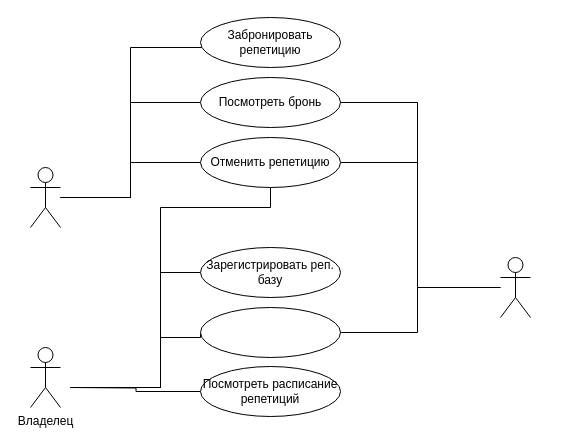
Some shapes in this 576 by 446 pixel diagram are drawn without their labels. The centre of each missing label's shape, as x and y in pixels:
"Администратор" belongs at (515,287).
"Музыкант" belongs at (45,197).
"Удалить реп. базу" belongs at (270,332).
